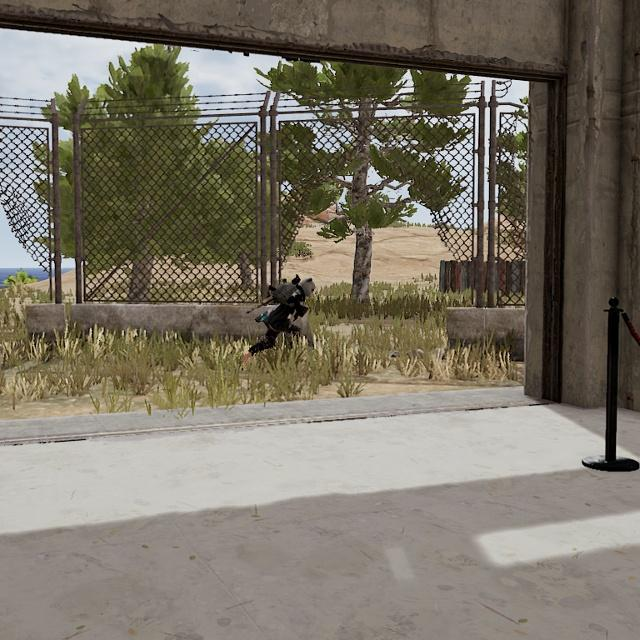head: (299, 277, 316, 299)
people: (242, 277, 315, 359)
